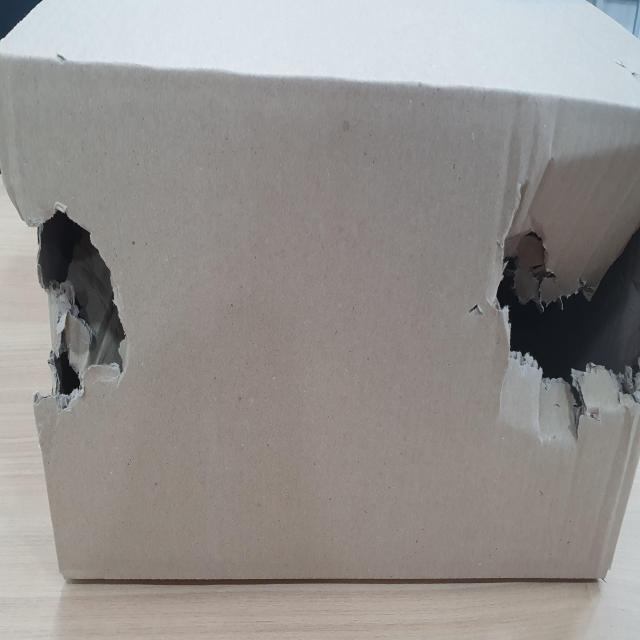damaged: (490, 131, 640, 445), (10, 188, 129, 423)
